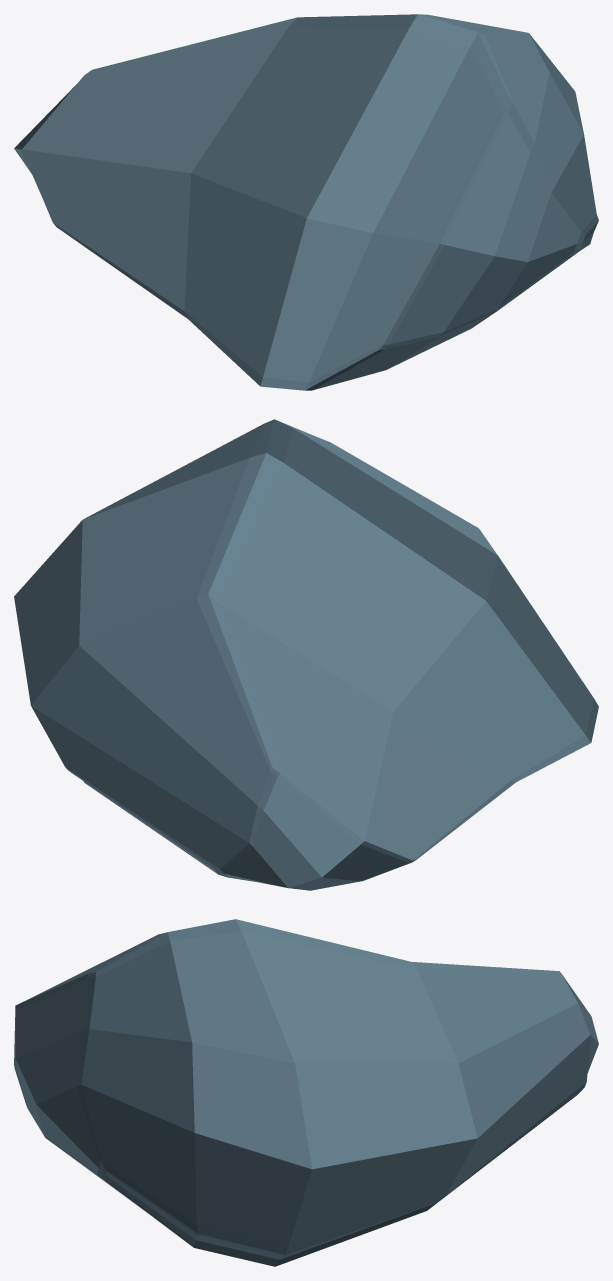
Rendered from ROCKS_ROUND_C_PRIM.fbx.
3 renders of one model, top to bottom at view 1: azimuth 30°, elevation 25°; view 2: azimuth 150°, elevation 25°; view 3: azimuth 270°, elevation 25°, orthographic. The views are drawn at different scales.
Visible parts, largest first — view 1: ROCKSROUNDC_PRIM; view 2: ROCKSROUNDC_PRIM; view 3: ROCKSROUNDC_PRIM.
Boxes of the visible parts, left/top/right/bottom form: ROCKSROUNDC_PRIM: left=14, top=14, right=598, bottom=390; ROCKSROUNDC_PRIM: left=14, top=419, right=598, bottom=890; ROCKSROUNDC_PRIM: left=14, top=919, right=598, bottom=1266.
Size of the model in its own units: 18.91 by 11.58 by 21.3.
